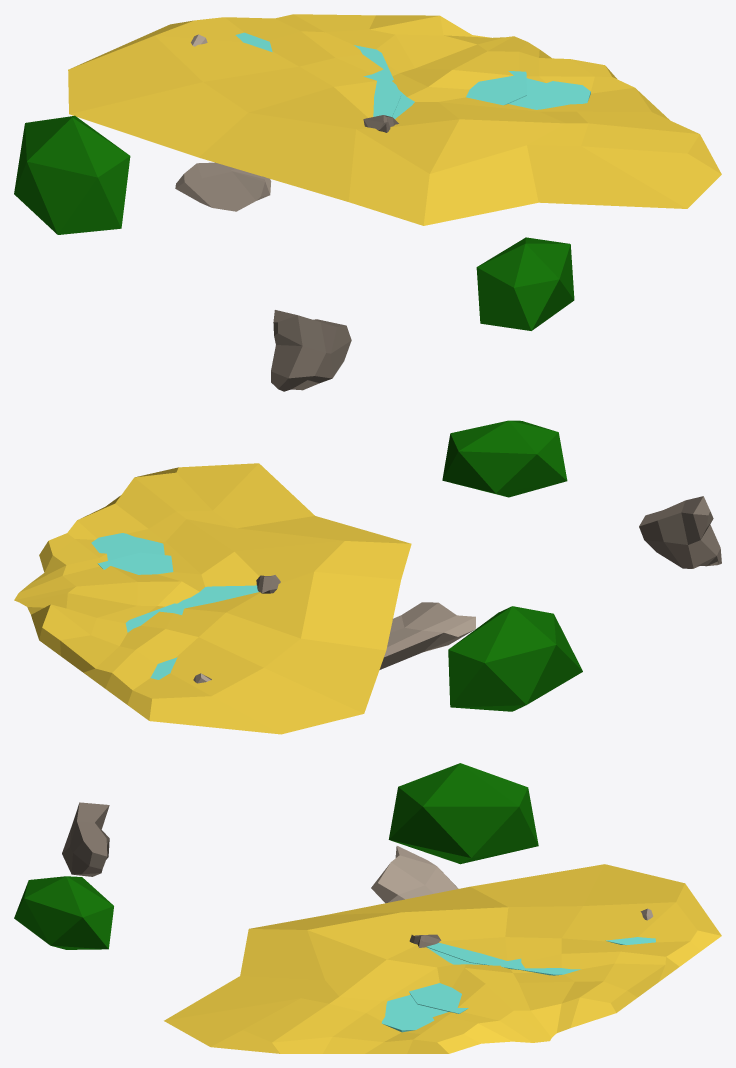
The model's file is street4_01_5.fbx.
The picture shows the model from 3 angles, top to bottom: view 1: azimuth 30°, elevation 25°; view 2: azimuth 150°, elevation 25°; view 3: azimuth 270°, elevation 25°; orthographic projection. The views are drawn at different scales.
Visible parts, largest first — view 1: sandway01x02.001, bush.004, bush.003, stones.016, stones.018, pond, pond.003, pond.002; view 2: sandway01x02.001, bush.004, bush.003, stones.016, stones.018, pond, pond.003, pond.002; view 3: sandway01x02.001, bush.004, bush.003, stones.018, stones.016, pond.003, pond, pond.002.
Part boxes in pixels (<box>): sandway01x02.001: <box>68,14,721,225</box>; bush.004: <box>14,115,130,234</box>; bush.003: <box>476,237,574,330</box>; stones.016: <box>271,310,351,391</box>; stones.018: <box>175,162,271,211</box>; pond: <box>392,71,526,118</box>; pond.003: <box>509,78,590,109</box>; pond.002: <box>354,45,401,116</box>; sandway01x02.001: <box>14,463,411,734</box>; bush.004: <box>448,606,582,711</box>; bush.003: <box>442,420,567,497</box>; stones.016: <box>639,496,721,568</box>; stones.018: <box>379,602,475,669</box>; pond: <box>97,552,252,596</box>; pond.003: <box>91,533,164,560</box>; pond.002: <box>125,585,258,632</box>; sandway01x02.001: <box>164,864,721,1053</box>; bush.004: <box>388,763,538,864</box>; bush.003: <box>14,876,113,949</box>; stones.018: <box>371,846,458,903</box>; stones.016: <box>62,802,109,876</box>; pond.003: <box>381,995,447,1032</box>; pond: <box>409,947,483,1013</box>; pond.002: <box>427,943,580,975</box>.
Bounding box in the file's own units: 76.33 × 15.4 × 93.71.
